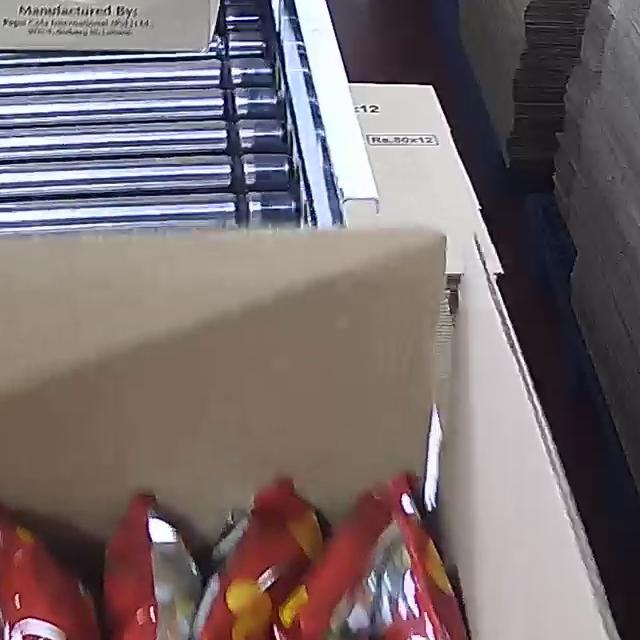masala: (0, 469, 517, 640)
